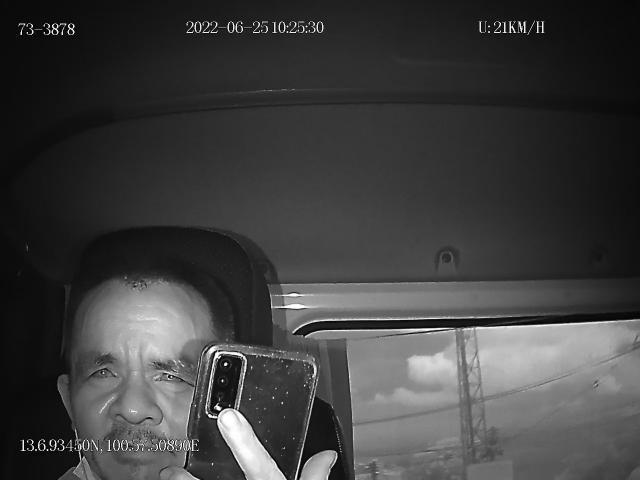PhoneUse: (186, 340, 322, 480)
SafeDriving: (145, 356, 194, 393), (81, 352, 125, 390)
